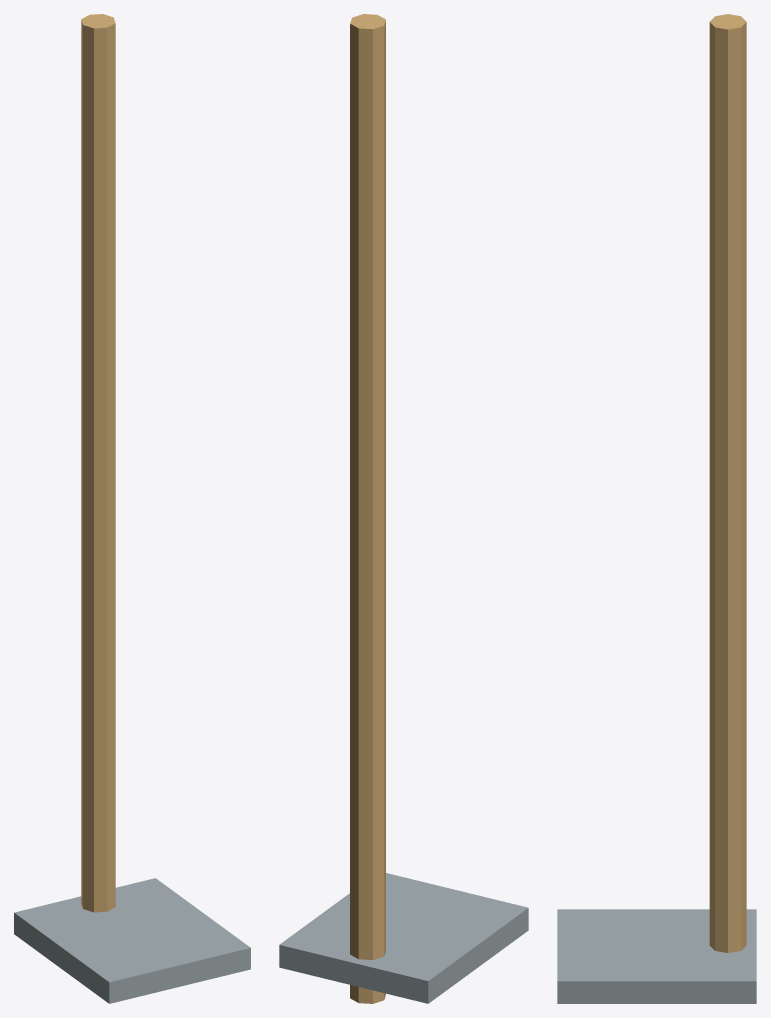
File: TR3_Tool_Hoe.glb
3 views of the same model, side by side, from view 1: azimuth 30°, elevation 25°; view 2: azimuth 150°, elevation 25°; view 3: azimuth 270°, elevation 25° (orthographic). The views are drawn at different scales.
Visible parts, largest first — view 1: TR3_Tool_Hoe; view 2: TR3_Tool_Hoe; view 3: TR3_Tool_Hoe.
Part boxes in pixels (x1,y1,x2,y2): TR3_Tool_Hoe: (14, 14, 250, 1003); TR3_Tool_Hoe: (279, 14, 528, 1003); TR3_Tool_Hoe: (557, 14, 756, 1003).
Size of the model in its own units: 0.24 by 1.5 by 0.28.
